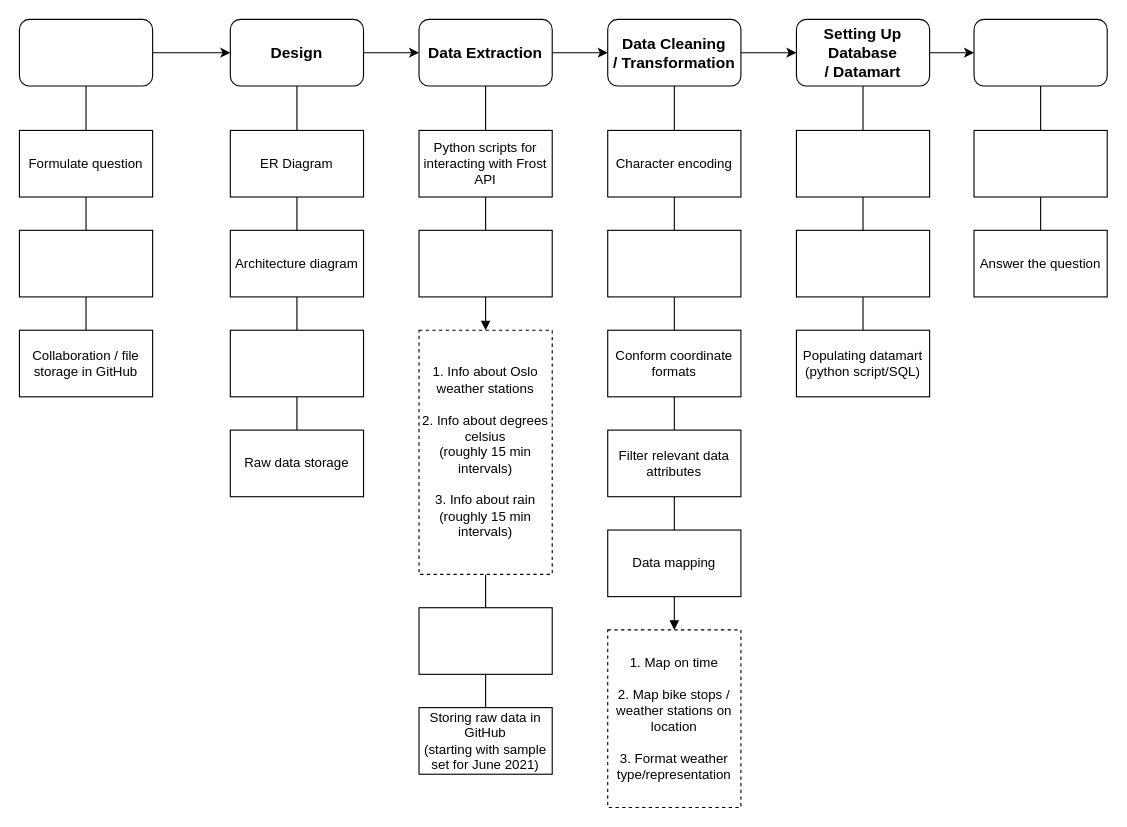
Some shapes in this 1127 by 827 pixel diagram are drawn without their labels. Each missing label, with the centre of its shape:
"Conform date formats" belongs at point 674,263.
"Data analysis" belongs at point 1040,52.
"Fetching raw data as json" belongs at point 485,263.
"Get json data for June from Oslo Bysykkel" belongs at point 485,640.
"Locate and investigate data sources" belongs at point 85,263.
"Python script for creating DB/tables/columns in SQL" belongs at point 862,263.
"Python script for server connection / sharing" belongs at point 862,163.
"Query the database" belongs at point 1040,163.
"Set-up" belongs at point 85,52.
"Star schema" belongs at point 296,363.
